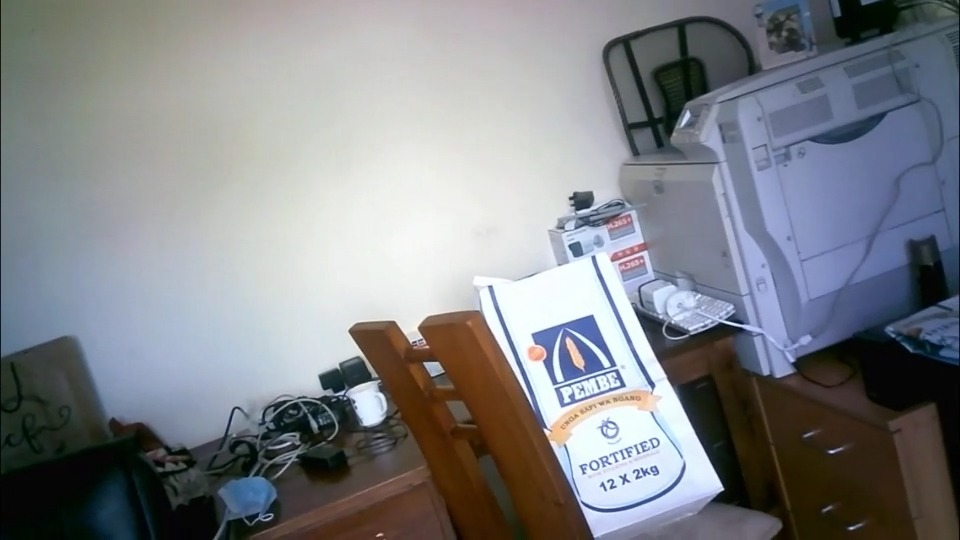wheat_flour_blue_label: (481, 255, 726, 533)
